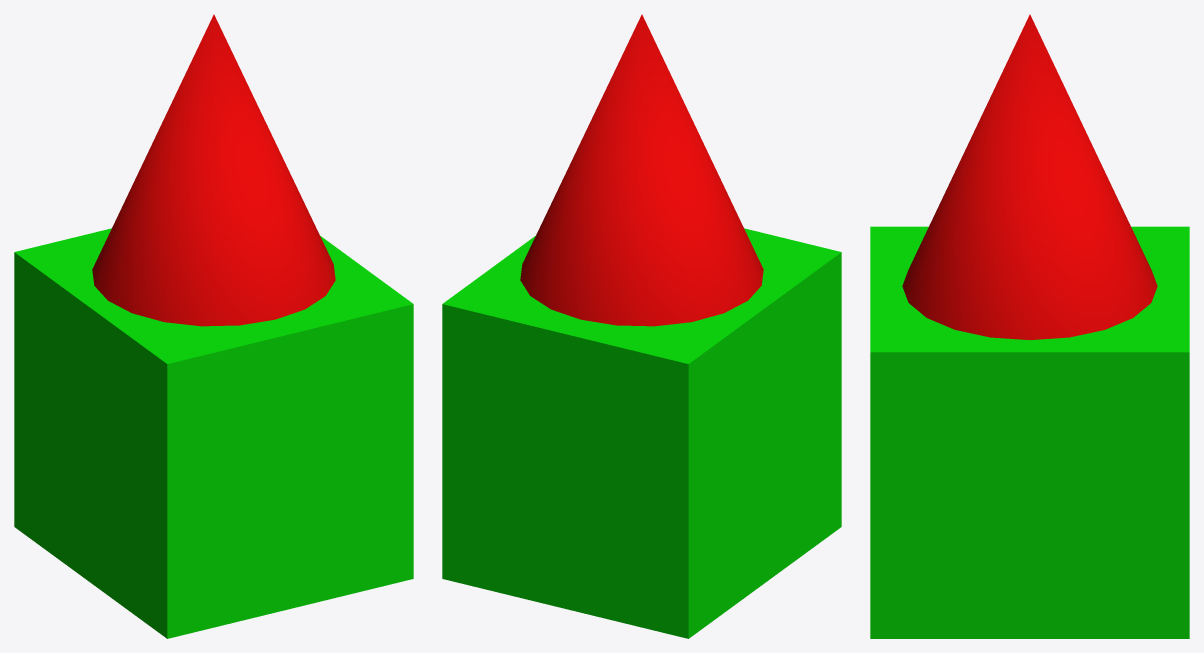
The picture shows the model from 3 angles, left to right: view 1: azimuth 30°, elevation 25°; view 2: azimuth 150°, elevation 25°; view 3: azimuth 270°, elevation 25°; orthographic projection. The views are drawn at different scales.
Parts seen in each view (by area): view 1: pCube1, pCone1; view 2: pCube1, pCone1; view 3: pCube1, pCone1.
Part boxes in pixels (<box>): pCube1: <box>14,228,413,638</box>; pCone1: <box>92,14,335,326</box>; pCube1: <box>442,228,841,638</box>; pCone1: <box>520,14,763,326</box>; pCube1: <box>870,226,1189,638</box>; pCone1: <box>902,14,1157,339</box>.
Bounding box in the file's own units: 5.44 × 11.36 × 5.85.
